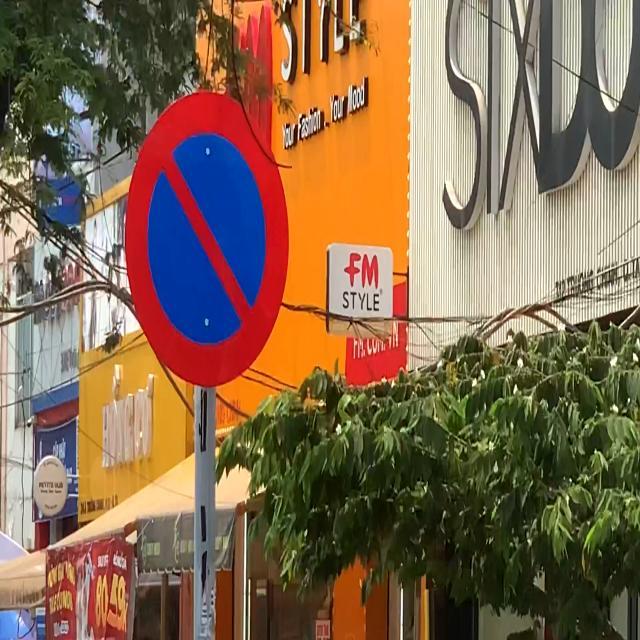P.131a: (124, 90, 290, 386)
